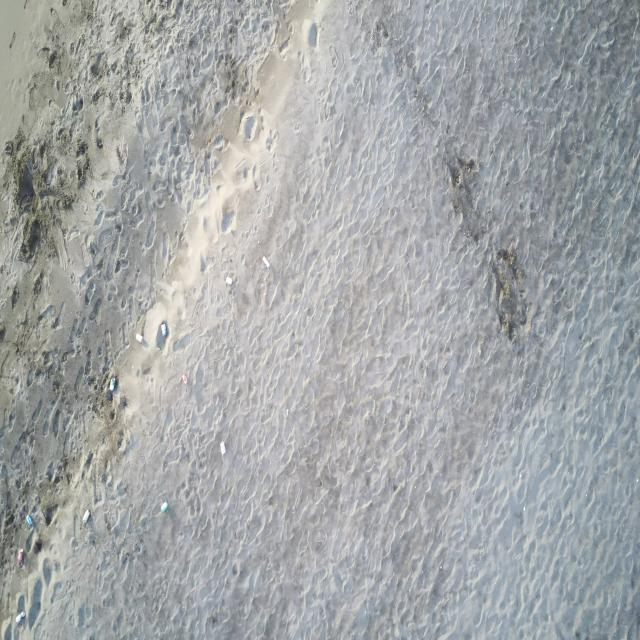tin-and-aluminum-cans: (160, 322, 168, 338), (16, 612, 25, 624), (83, 509, 90, 523), (160, 500, 168, 512), (110, 376, 116, 392), (220, 441, 226, 456), (136, 333, 144, 344), (262, 256, 270, 267), (17, 548, 23, 562), (181, 374, 188, 386), (27, 514, 33, 526), (226, 276, 233, 285)
